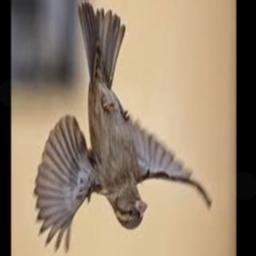Sparrow: (33, 2, 210, 254)
